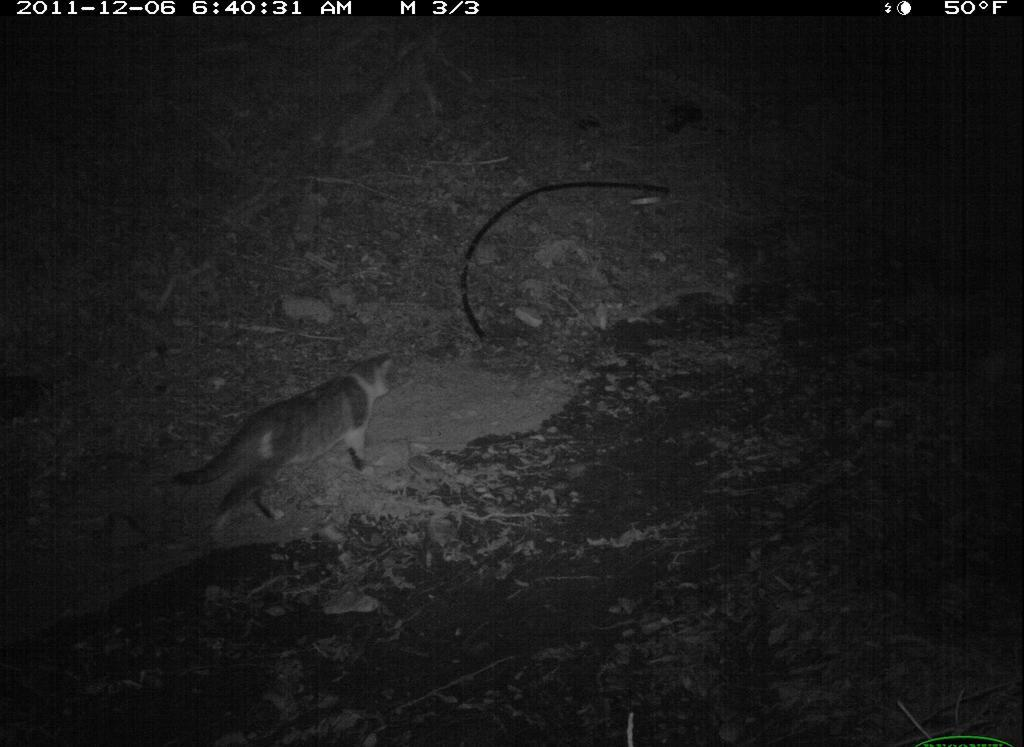cat: (161, 354, 406, 536)
